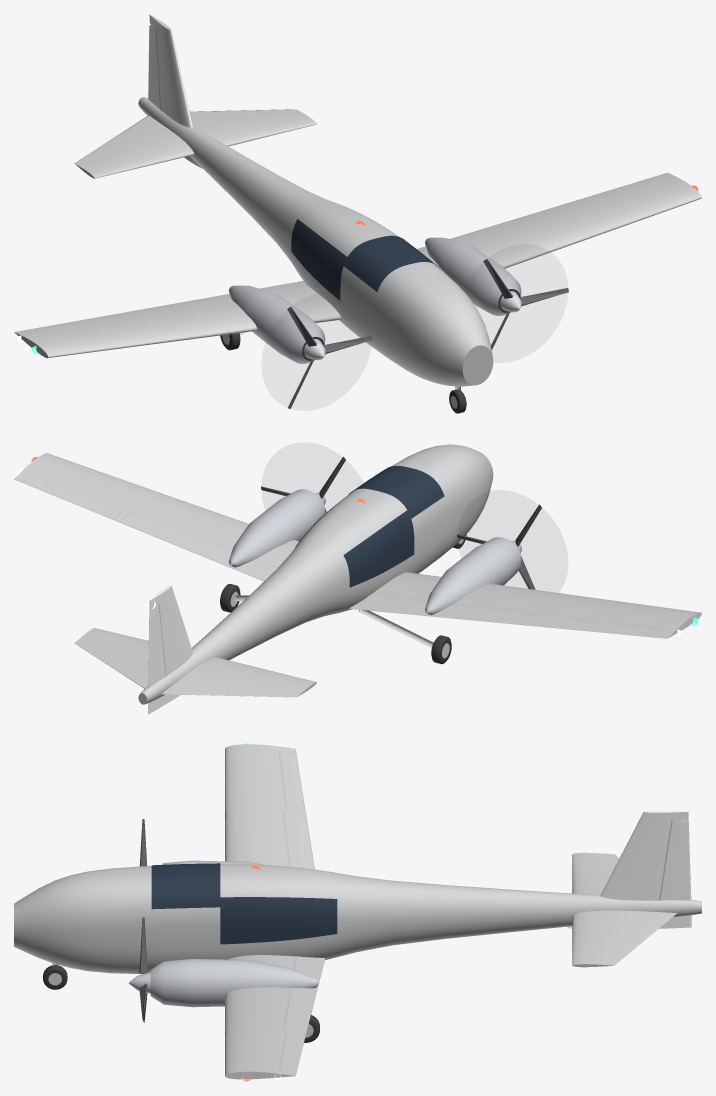
The picture shows the model from 3 angles, top to bottom: view 1: azimuth 30°, elevation 25°; view 2: azimuth 150°, elevation 25°; view 3: azimuth 270°, elevation 25°; orthographic projection. The views are drawn at different scales.
Visible parts, largest first — view 1: airframe, prop (×2), gear; view 2: airframe, gear, prop; view 3: airframe, gear, prop.
Boxes of the visible parts, <box> form: airframe: <box>14,14,701,386</box>; prop (×2): <box>287,259,568,408</box>; gear: <box>220,332,466,413</box>; airframe: <box>14,444,701,714</box>; gear: <box>220,534,466,664</box>; prop: <box>457,504,541,589</box>; airframe: <box>14,743,701,1081</box>; gear: <box>43,963,319,1042</box>; prop: <box>139,917,147,1022</box>.
Size of the model in its own units: 12.72 by 3.24 by 11.1.
